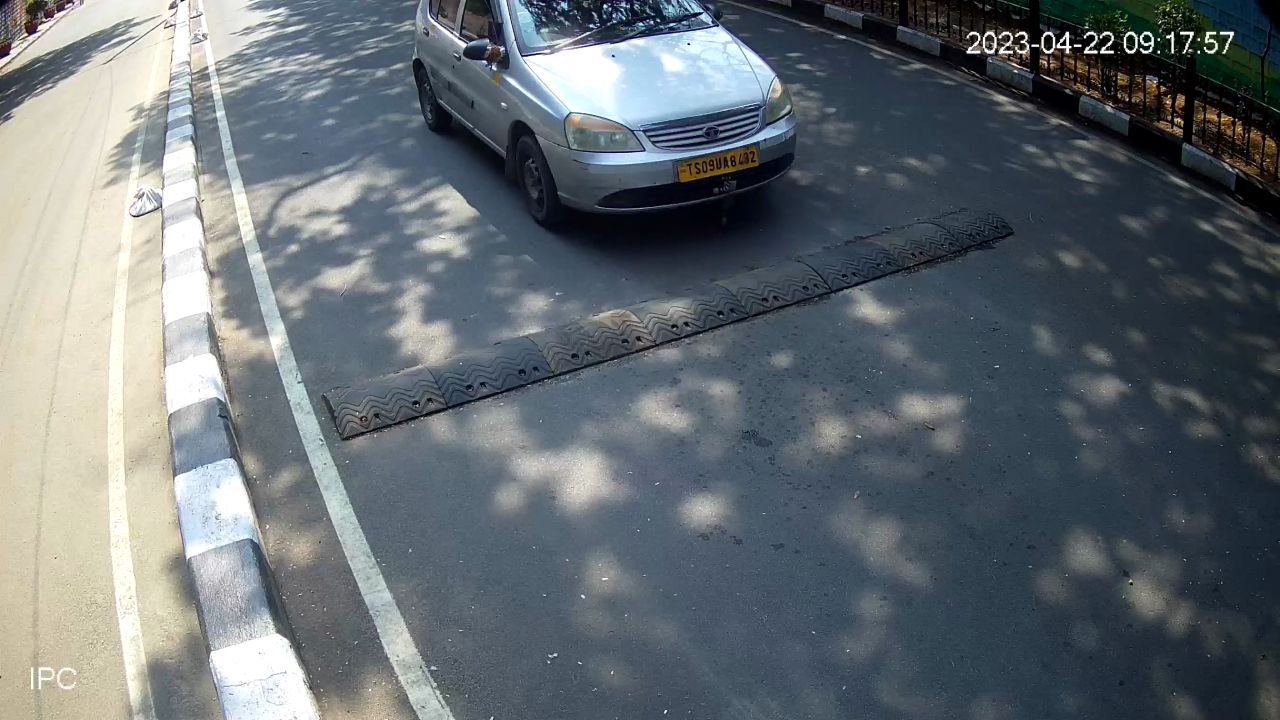license_plate: (667, 138, 764, 191)
